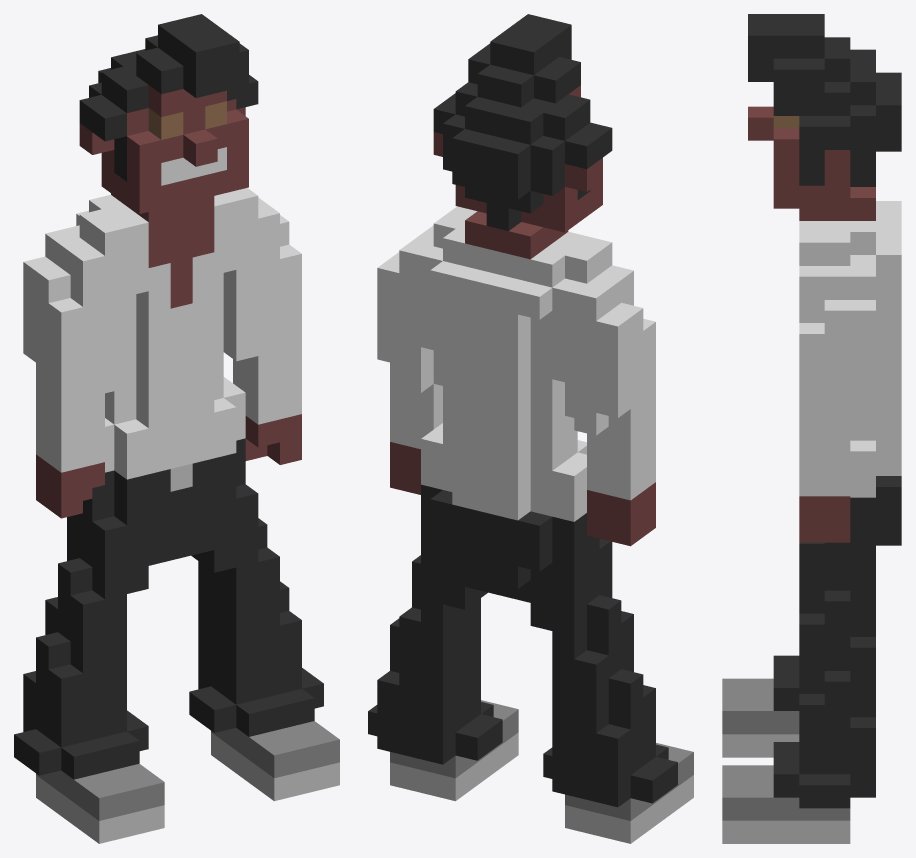
Rendered from man4_v1.fbx.
The picture shows the model from 3 angles, left to right: view 1: azimuth 30°, elevation 25°; view 2: azimuth 150°, elevation 25°; view 3: azimuth 270°, elevation 25°; orthographic projection.
Parts seen in each view (by area): view 1: man4; view 2: man4; view 3: man4.
Boxes of the visible parts, left/top/right/bottom form: man4: left=14, top=14, right=339, bottom=843; man4: left=368, top=14, right=693, bottom=843; man4: left=722, top=14, right=901, bottom=843.
Size of the model in its own units: 13 by 33 by 7.
